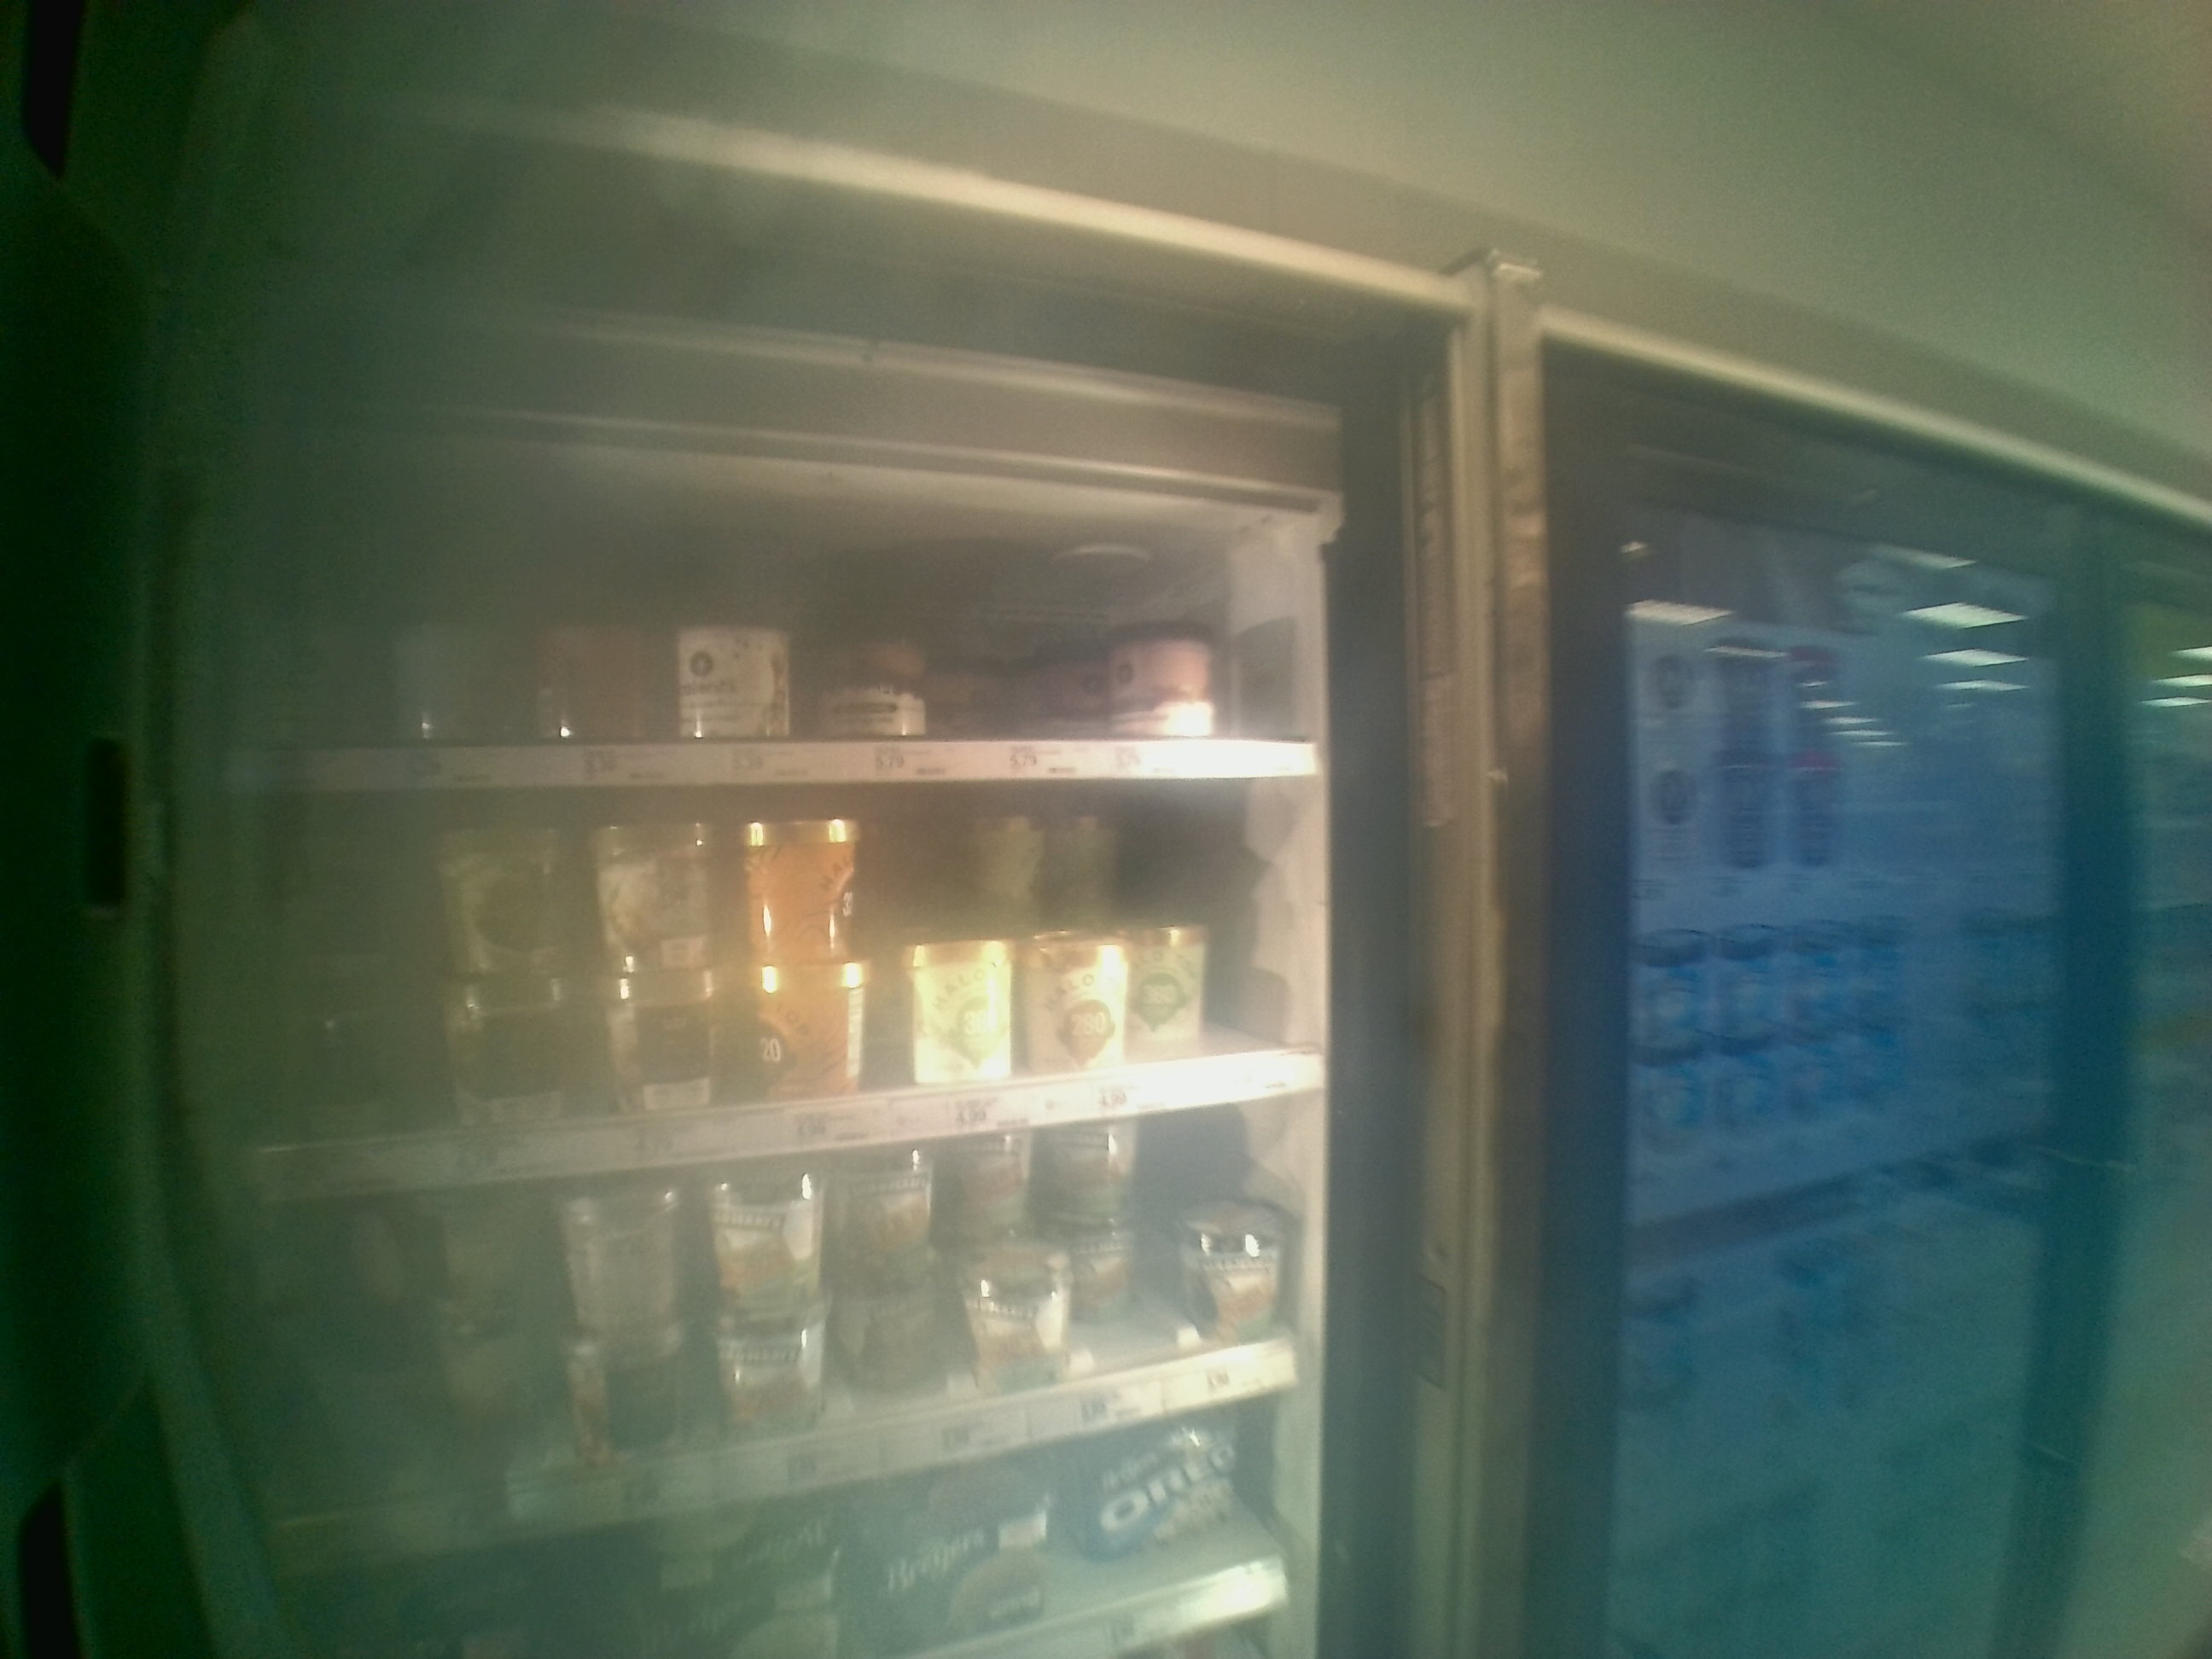shelf: (240, 784, 1343, 1218), (246, 457, 1322, 779)
